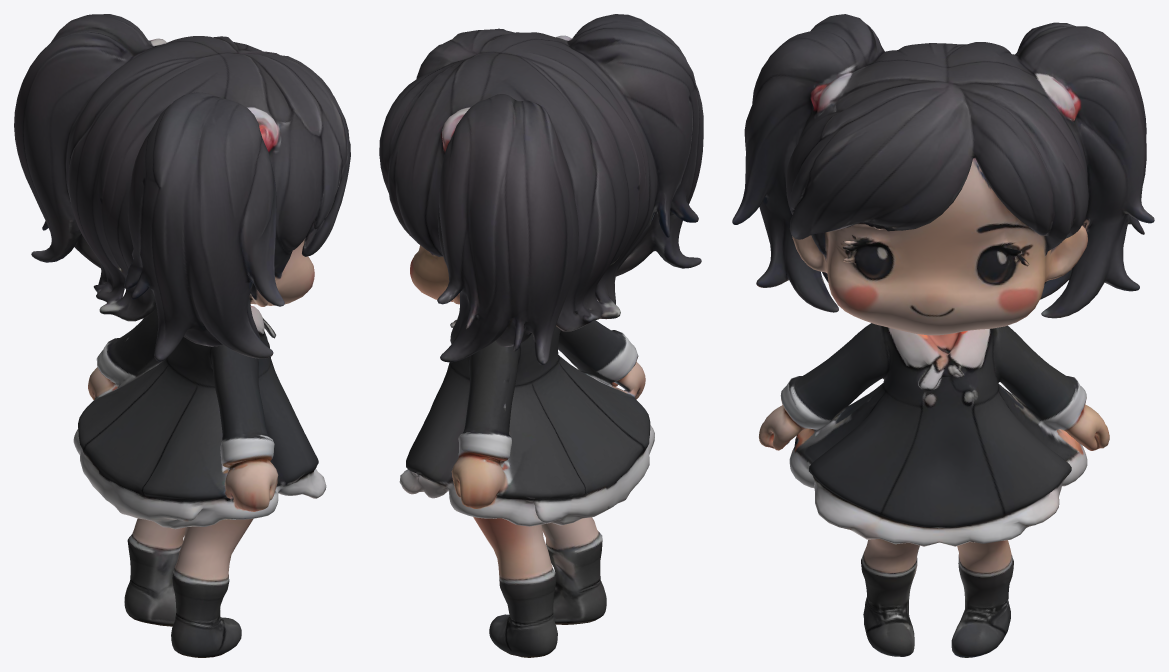
File: tripo_convert_5c8feaf6-1a08-4cf2-9c2f-0437ff7dec0f.fbx
3 views of the same model, side by side, from view 1: azimuth 30°, elevation 25°; view 2: azimuth 150°, elevation 25°; view 3: azimuth 270°, elevation 25° (orthographic). The views are drawn at different scales.
Visible parts, largest first — view 1: tripo_node_5c8feaf6; view 2: tripo_node_5c8feaf6; view 3: tripo_node_5c8feaf6.
Boxes of the visible parts, box(x1,y1,x2,y2) form: tripo_node_5c8feaf6: box(14, 14, 350, 657); tripo_node_5c8feaf6: box(379, 14, 703, 657); tripo_node_5c8feaf6: box(732, 14, 1154, 657).
Size of the model in its own units: 42.71 by 99.95 by 63.2.
Materials: 1 (1 with a texture image).
